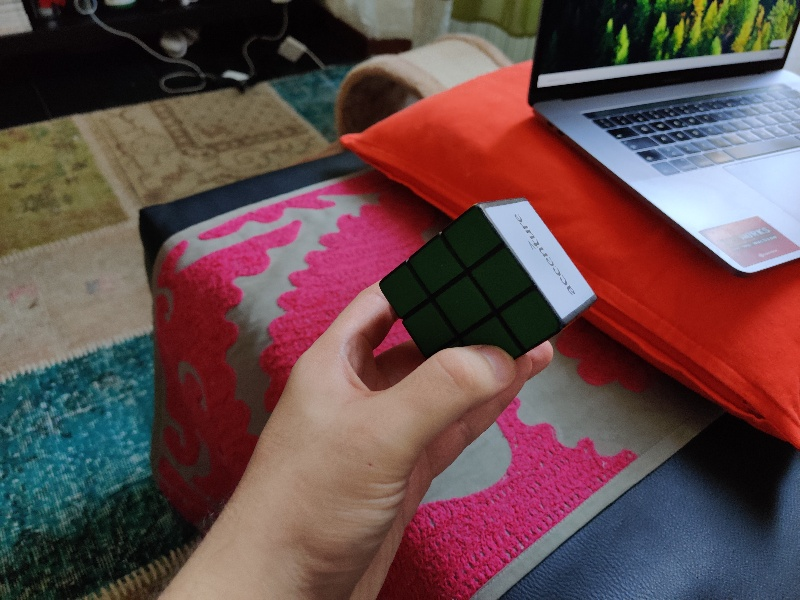rubik: (379, 197, 598, 362)
